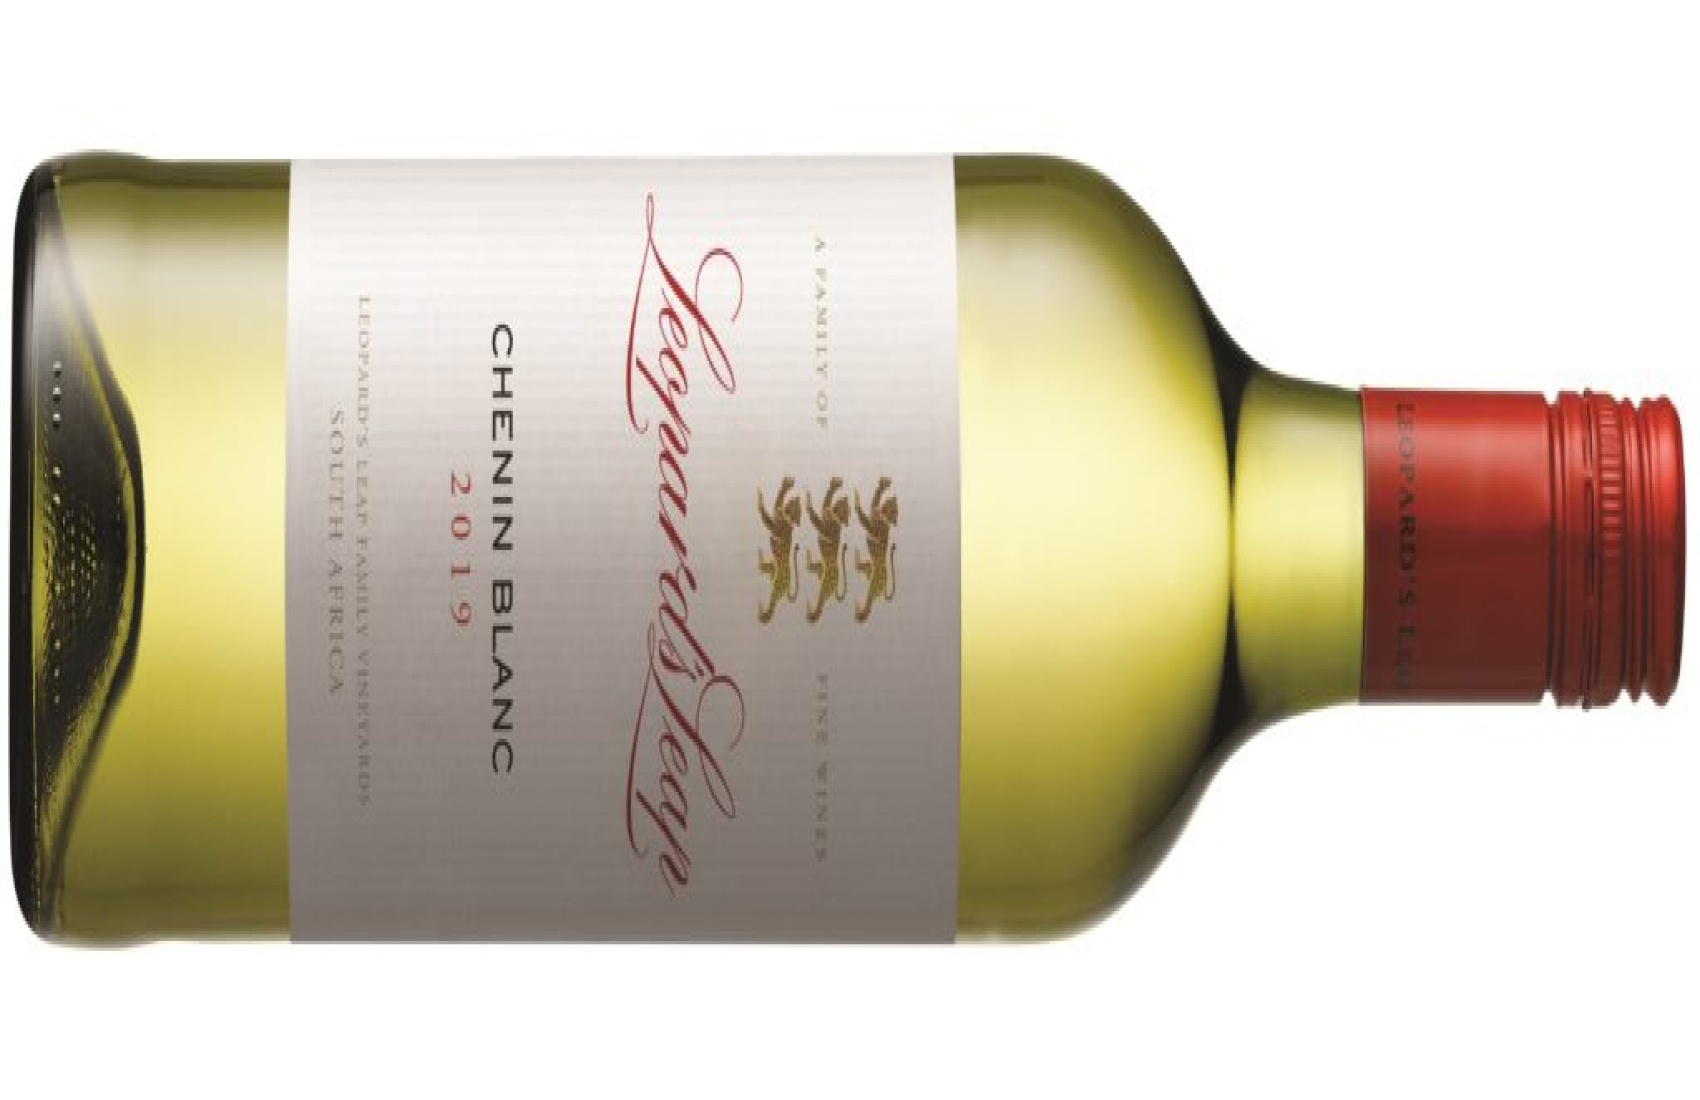wine: (2, 171, 1680, 941)
